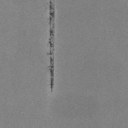slag inclusion: (49, 57, 54, 89), (49, 1, 54, 24), (49, 26, 54, 48), (48, 50, 53, 55)
